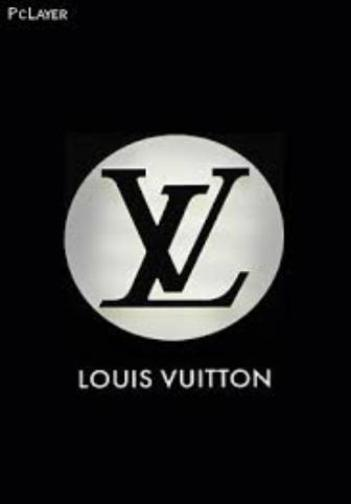LOUIS-VUITTON: (91, 152, 255, 318), (63, 362, 289, 396)
